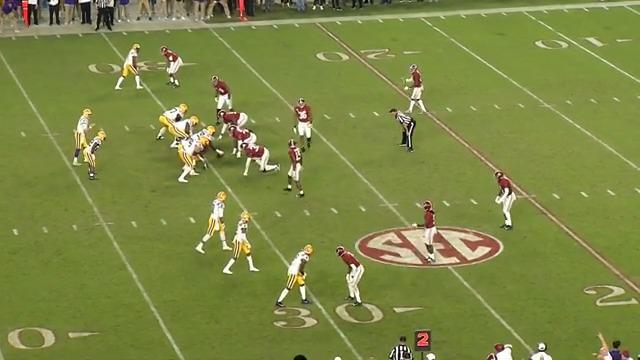defense: (337, 244, 367, 307), (412, 196, 439, 263), (491, 169, 516, 233), (283, 138, 306, 201), (241, 142, 281, 177), (157, 41, 182, 89), (291, 97, 312, 153), (405, 63, 427, 115), (211, 74, 235, 118), (216, 109, 251, 139), (228, 125, 256, 159)
oline: (180, 136, 209, 184), (154, 105, 186, 144), (190, 126, 224, 162), (168, 115, 199, 151), (194, 135, 209, 170)
qb: (71, 106, 94, 169)
ref: (392, 107, 418, 156), (94, 0, 115, 33)
skill: (194, 191, 234, 258), (274, 244, 314, 310), (221, 210, 259, 278), (114, 43, 145, 95), (81, 131, 105, 182)
